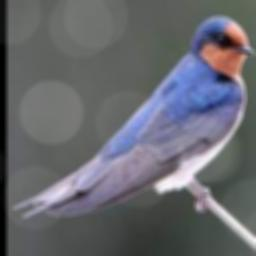Swallow: (11, 16, 253, 218)
